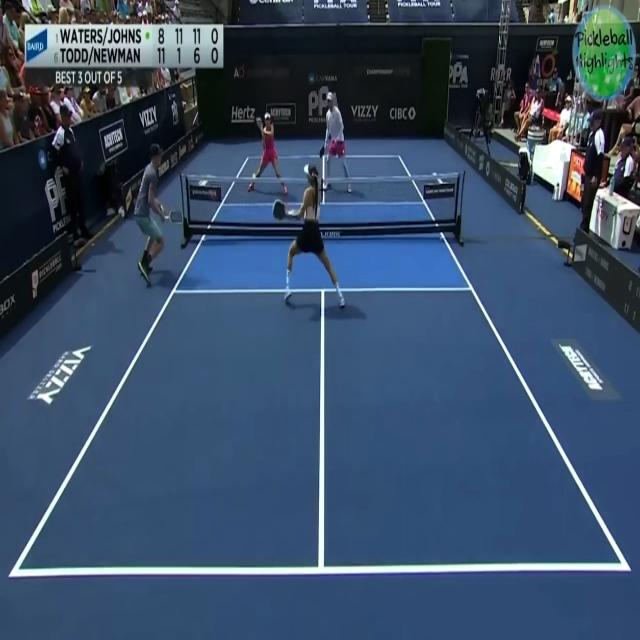Pickleball: (252, 172, 256, 179)
